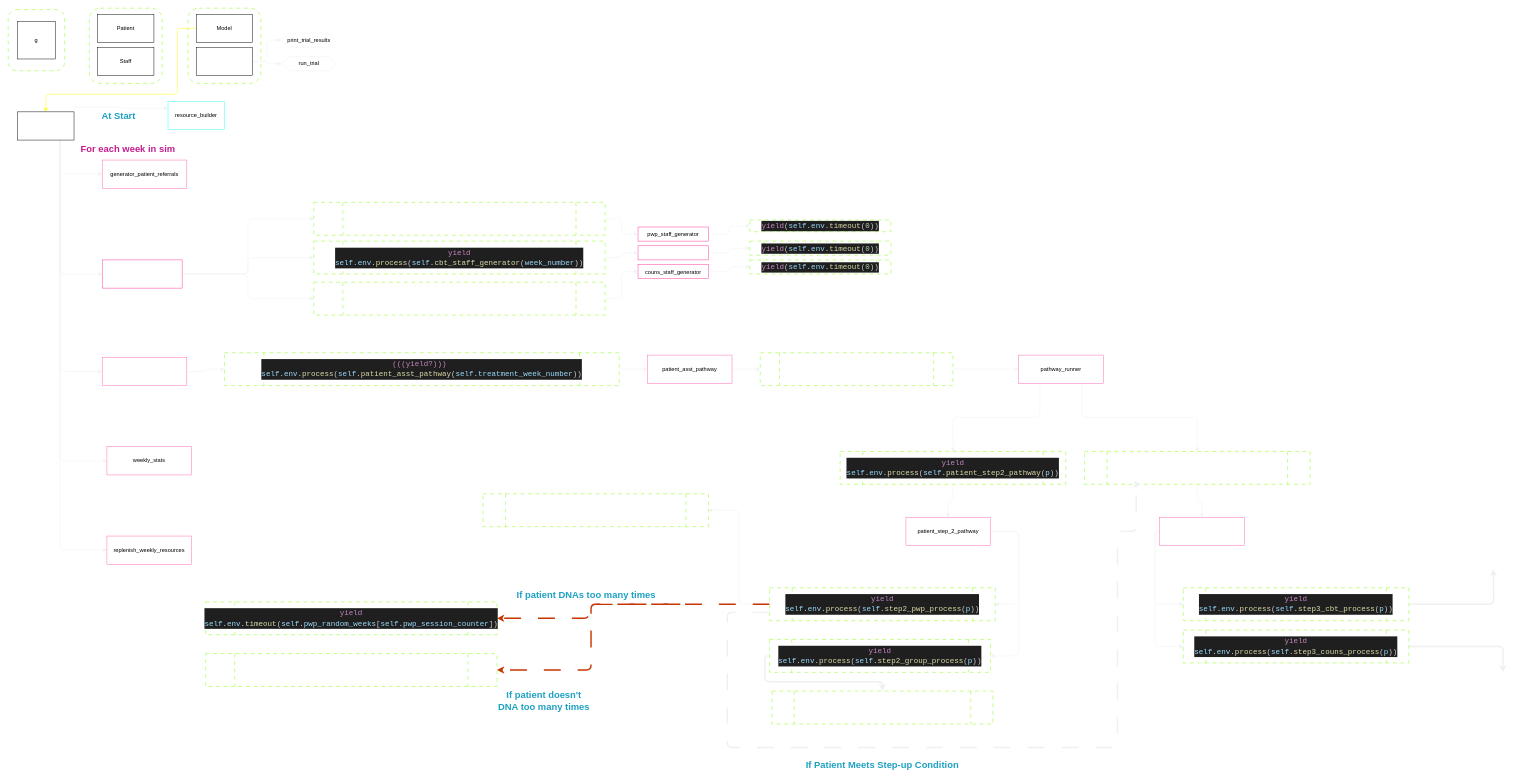
The diagram is 1516 pixels wide and 779 high, and some of its shapes have lost their labels. Here are the shapes that lost their labels. From the top down, the centre of each, then its label:
At point 224,61: "Trial".
At point 45,125: "the_governor".
At point 459,218: "yield self . env . process ( self . pwp_staff_generator ( week_number ))".
At point 673,252: "cbt_staff_generator".
At point 142,273: "staff_entity_generator".
At point 459,298: "yield self . env . process ( self . couns_staff_generator ( week_number ))".
At point 144,371: "patient_treatment_generator".
At point 856,369: "(((yield?))) self . env . process ( self . pathway_runner ( p ))".
At point 1197,467: "yield self . env . process ( self . patient_step3_pathway ( p ))".
At point 595,510: "yield self . env . process ( self . find_caseload_slot ( 'PwP' ))".
At point 1201,531: "patient_step_3_pathway".
At point 351,669: "yield self . env . timeout ( max ( self . pwp_random_weeks ))".
At point 882,707: "yield self . env . timeout ( self . group_session_counter )".
